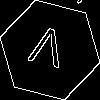V: (25, 25, 68, 77)
